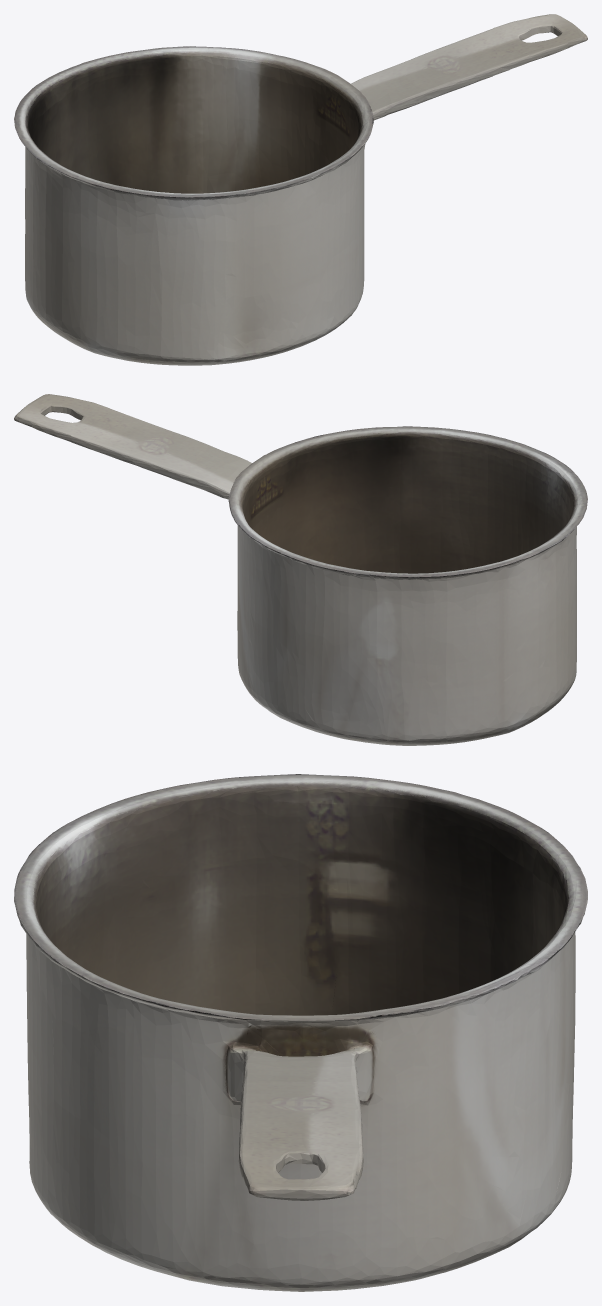
File: drymeasuringcup.glb
3 renders of one model, top to bottom at view 1: azimuth 30°, elevation 25°; view 2: azimuth 150°, elevation 25°; view 3: azimuth 270°, elevation 25°, orthographic. The views are drawn at different scales.
Visible parts, largest first — view 1: world; view 2: world; view 3: world.
Boxes of the visible parts, left/top/right/bottom form: world: left=14, top=14, right=587, bottom=365; world: left=14, top=394, right=587, bottom=745; world: left=14, top=774, right=587, bottom=1291.
Size of the model in its own units: 0.9988 by 0.3371 by 0.5723.
1 material, 1 textured.
